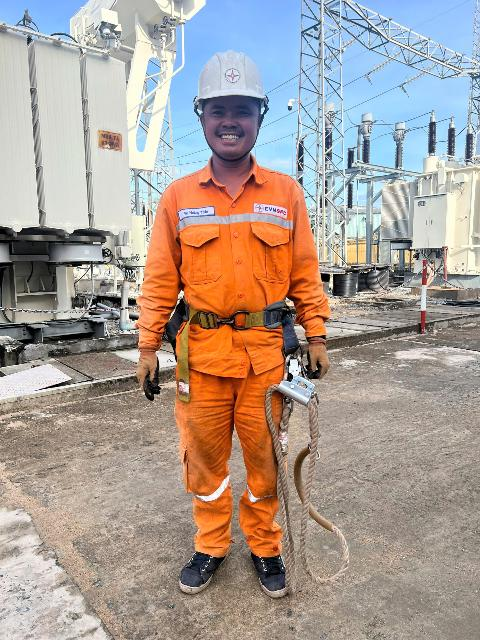gloves: (116, 337, 164, 406), (302, 332, 347, 387)
harness: (162, 292, 300, 337)
helmet: (181, 46, 284, 113)
shoes: (168, 532, 238, 602), (242, 532, 302, 607)
